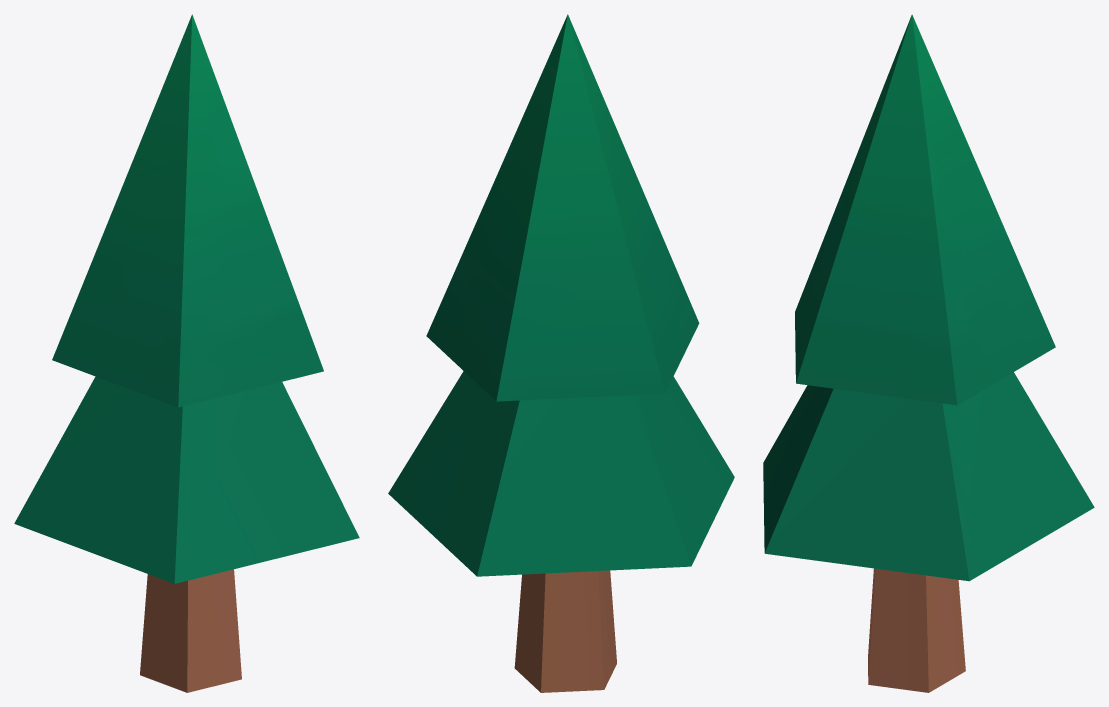
The model's file is tree_single_A.glb.
The picture shows the model from 3 angles, left to right: view 1: azimuth 30°, elevation 25°; view 2: azimuth 150°, elevation 25°; view 3: azimuth 270°, elevation 25°; orthographic projection.
Parts seen in each view (by area): view 1: tree_single_A; view 2: tree_single_A; view 3: tree_single_A.
Boxes of the visible parts, x1=… form: tree_single_A: x1=14, y1=14, x2=359, y2=692; tree_single_A: x1=388, y1=14, x2=734, y2=692; tree_single_A: x1=763, y1=14, x2=1094, y2=692.
Size of the model in its own units: 0.574 by 1.2 by 0.547.
Materials: 1 (1 with a texture image).
